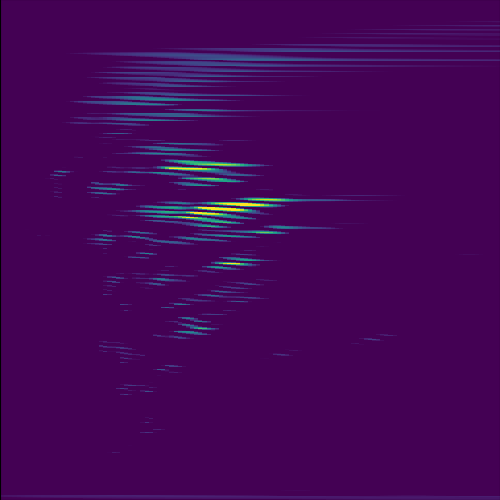semblance: (157, 194, 302, 226), (150, 157, 263, 185)
